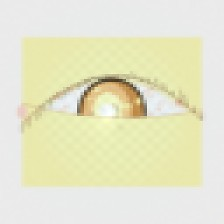corneal_ulcer: (77, 87, 138, 136)
